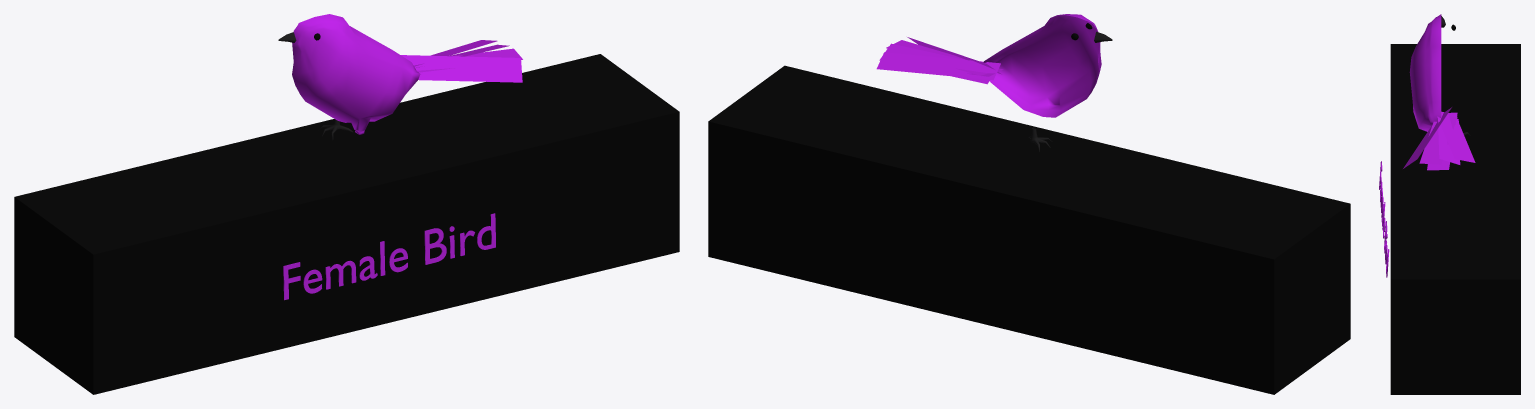
The model's file is femalebird.gltf.
3 views of the same model, side by side, from view 1: azimuth 30°, elevation 25°; view 2: azimuth 150°, elevation 25°; view 3: azimuth 270°, elevation 25° (orthographic). The views are drawn at different scales.
Parts seen in each view (by area): view 1: Cube.007, body2.001, Text.006, tail_feather1.001; view 2: Cube.007, body2.001, tail_feather2.001, tail_feather4.001; view 3: Cube.007, body2.001, tail_feather2.001, tail_feather5.001, Text.006, tail_feather1.001, tail_feather4.001, tail_feather3.001.
Part boxes in pixels (x1,y1,x2,y2): Cube.007: (14, 54, 679, 394); body2.001: (292, 14, 420, 134); Text.006: (283, 213, 495, 300); tail_feather1.001: (401, 55, 522, 82); Cube.007: (708, 65, 1350, 394); body2.001: (983, 14, 1101, 117); tail_feather2.001: (876, 52, 1000, 80); tail_feather4.001: (879, 43, 989, 84); Cube.007: (1390, 44, 1520, 394); body2.001: (1409, 14, 1441, 131); tail_feather2.001: (1437, 111, 1475, 162); tail_feather5.001: (1419, 116, 1457, 164); Text.006: (1379, 161, 1389, 277); tail_feather1.001: (1403, 107, 1451, 168); tail_feather4.001: (1438, 119, 1460, 164); tail_feather3.001: (1427, 112, 1457, 170).
Size of the model in its own units: 3.34 by 1.6 by 0.8509.
